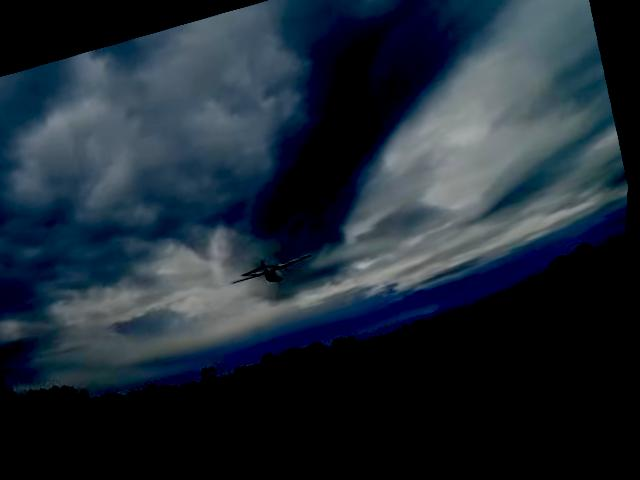uav: (226, 242, 320, 301)
